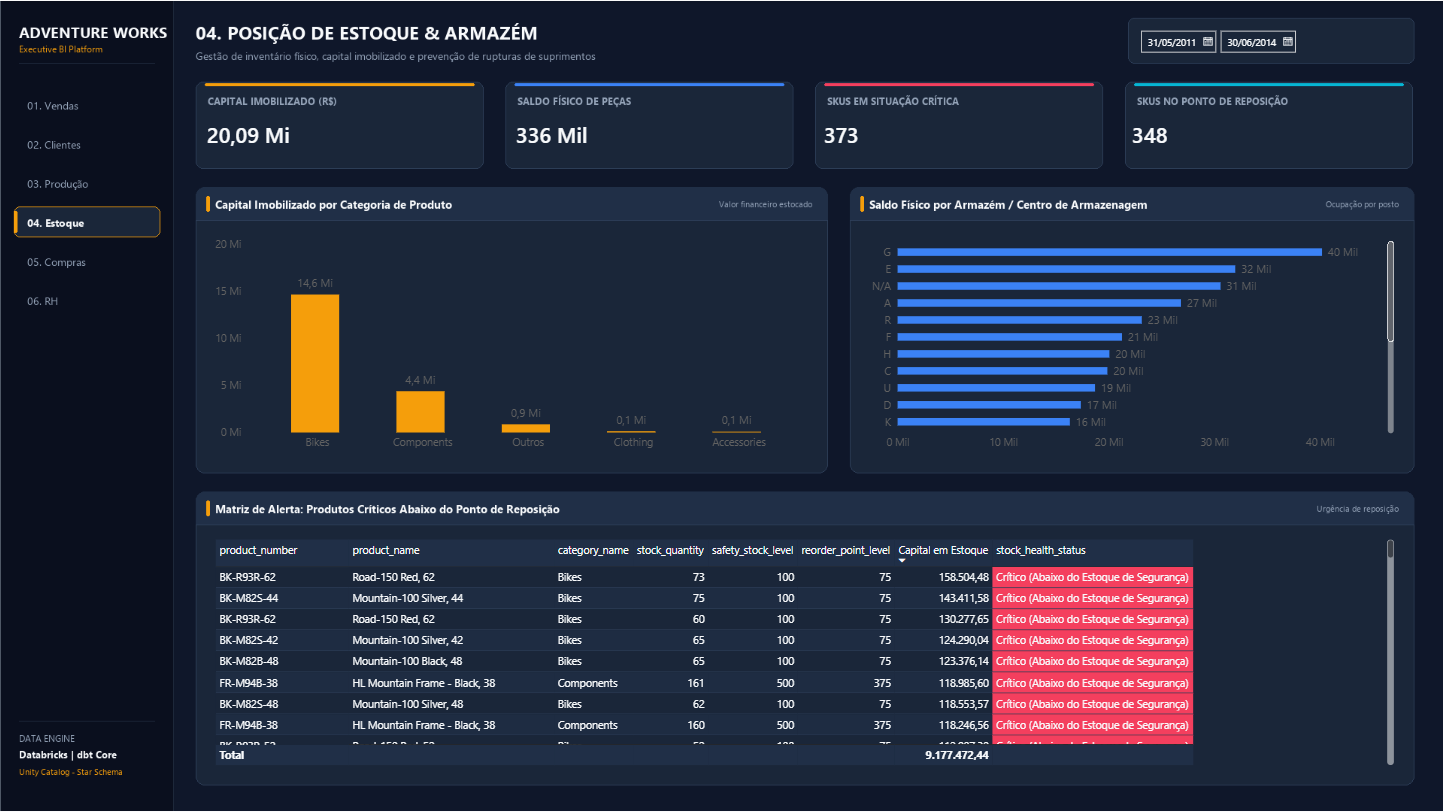

What the dashboard file says about the page in this screenshot:
{"tool":"powerbi","page":{"name":"Estoque","canvas":[1920,1080],"ordinal":3},"visuals":[{"type":"slicer","fields":{"Values":["dates.calendar_date"]},"box":[1510,35,360,45],"z":0},{"type":"cardVisual","fields":{"Data":["d_Medidas.Capital em Estoque"]},"box":[260,140,380,75],"z":1000},{"type":"cardVisual","fields":{"Data":["d_Medidas.Saldo Físico Estoque"]},"box":[670,140,380,75],"z":2000},{"type":"cardVisual","fields":{"Data":["d_Medidas.SKUs Críticos Estoque"]},"box":[1080,140,380,75],"z":3000},{"type":"cardVisual","fields":{"Data":["d_Medidas.SKUs Ponto de Reposição"]},"box":[1490,140,380,75],"z":4000},{"type":"clusteredColumnChart","fields":{"Category":["products.category_name"],"Y":["d_Medidas.Capital em Estoque"]},"box":[270,298,820,320],"z":5000},{"type":"clusteredBarChart","fields":{"Category":["inventory_snapshots.shelf_code"],"Y":["d_Medidas.Saldo Físico Estoque"]},"box":[1140,298,730,320],"z":6000},{"type":"tableEx","fields":{"Values":["products.product_number","products.product_name","products.category_name","inventory_snapshots.stock_quantity","inventory_snapshots.safety_stock_level","inventory_snapshots.reorder_point_level","d_Medidas.Capital em Estoque","inventory_snapshots.stock_health_status"]},"box":[270,702,1600,330],"z":7000}]}

Visuals, with their boxes on the page's 1920x1080 design canvas (x1, y1, x2, y2). These are canvas units, not pixel positions in the 1443x812 screenshot, which may show the page scaled, cropped or inside an application window:
slicer - dates.calendar_date: {"left": 1510, "top": 35, "right": 1870, "bottom": 80}
cardVisual - d_Medidas.Capital em Estoque: {"left": 260, "top": 140, "right": 640, "bottom": 215}
cardVisual - d_Medidas.Saldo Físico Estoque: {"left": 670, "top": 140, "right": 1050, "bottom": 215}
cardVisual - d_Medidas.SKUs Críticos Estoque: {"left": 1080, "top": 140, "right": 1460, "bottom": 215}
cardVisual - d_Medidas.SKUs Ponto de Reposição: {"left": 1490, "top": 140, "right": 1870, "bottom": 215}
clusteredColumnChart - products.category_name x d_Medidas.Capital em Estoque: {"left": 270, "top": 298, "right": 1090, "bottom": 618}
clusteredBarChart - inventory_snapshots.shelf_code x d_Medidas.Saldo Físico Estoque: {"left": 1140, "top": 298, "right": 1870, "bottom": 618}
tableEx - products.product_number x products.product_name: {"left": 270, "top": 702, "right": 1870, "bottom": 1032}
